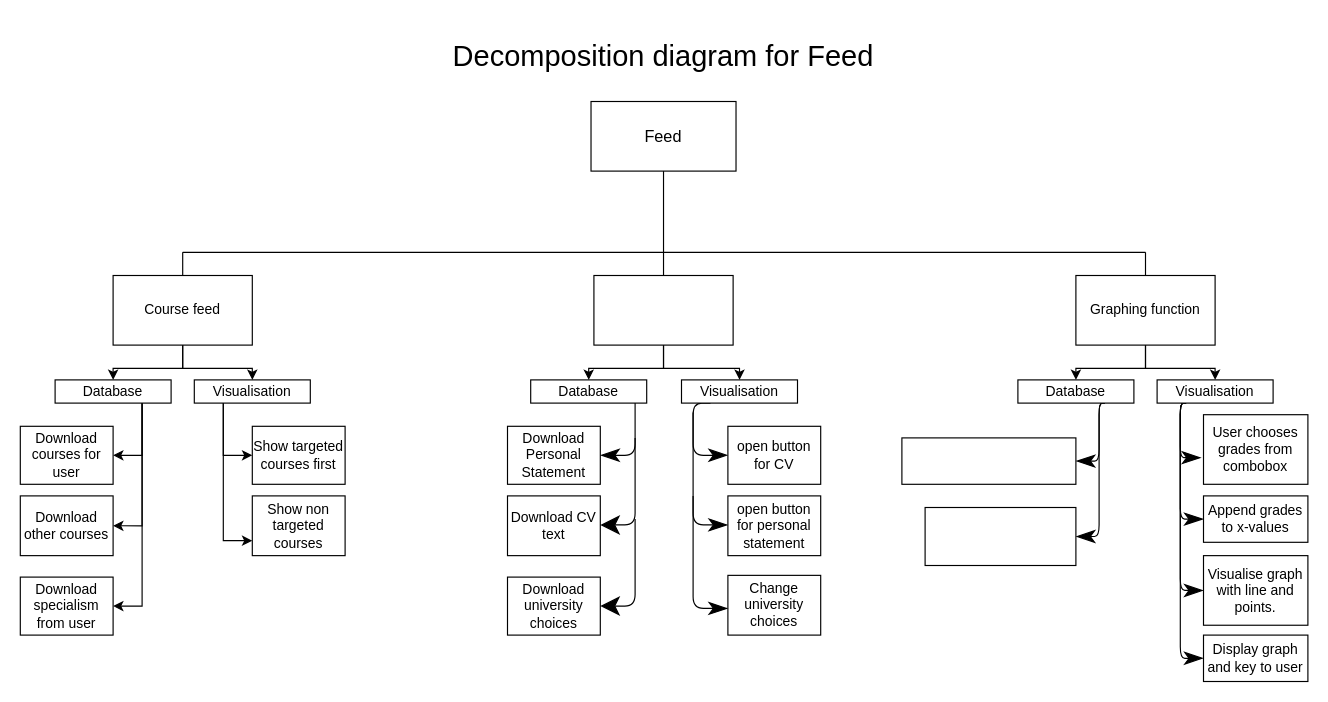
This 1328x702 diagram has some shape labels left out. The shapes that lost their labels are listed below. From the top down, each one's box as (x1, y1, x2, y2) in pixels, then its label:
(593, 274, 733, 345): Future Planning
(901, 437, 1076, 484): Download subjects that user has entered grade for
(924, 506, 1076, 566): Download grades for chosen subject
